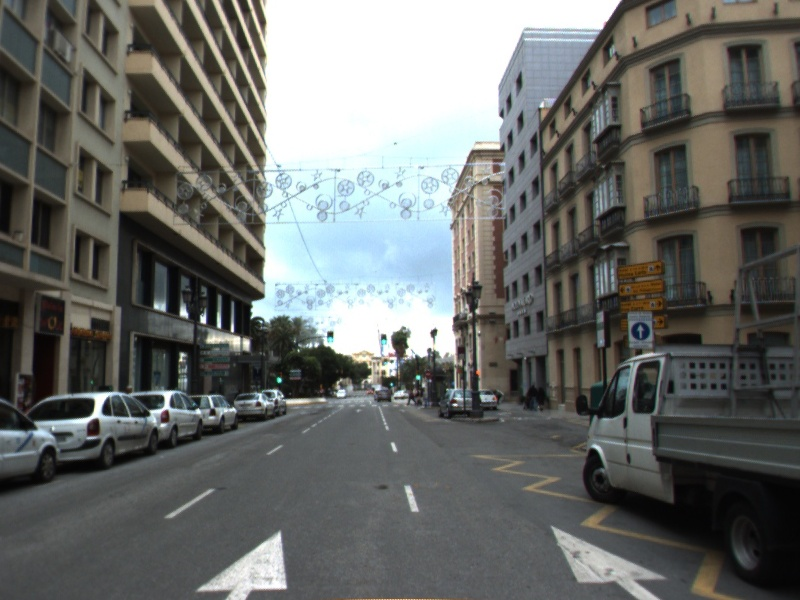STRAIGHT: (545, 521, 674, 600), (192, 525, 291, 600)
